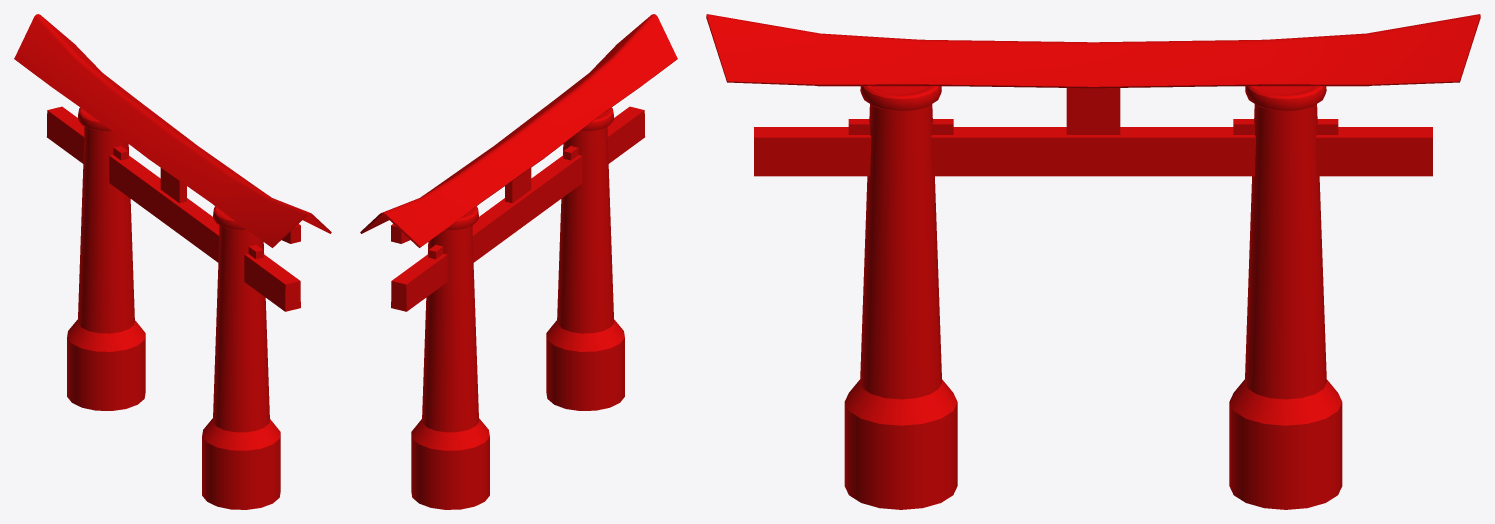
3 views of the same model, side by side, from view 1: azimuth 30°, elevation 25°; view 2: azimuth 150°, elevation 25°; view 3: azimuth 270°, elevation 25° (orthographic). The views are drawn at different scales.
Visible parts, largest first — view 1: Object_4.001; view 2: Object_4.001; view 3: Object_4.001.
Boxes of the visible parts, bbox=[...] form: Object_4.001: bbox=[14, 14, 331, 509]; Object_4.001: bbox=[360, 14, 677, 509]; Object_4.001: bbox=[706, 14, 1480, 509].
Bounding box in the file's own units: 0.7204 × 3.31 × 4.94.
